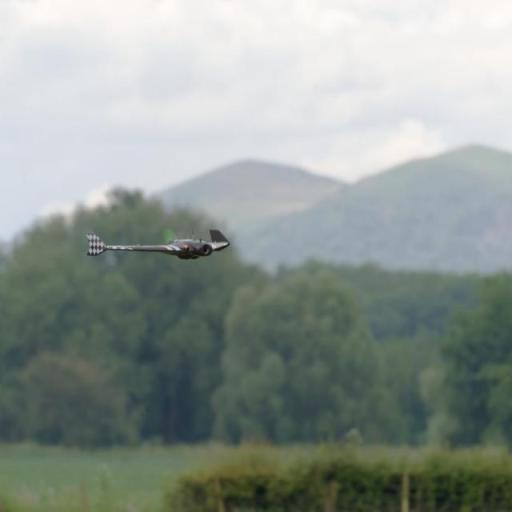uav: (75, 216, 249, 272)
